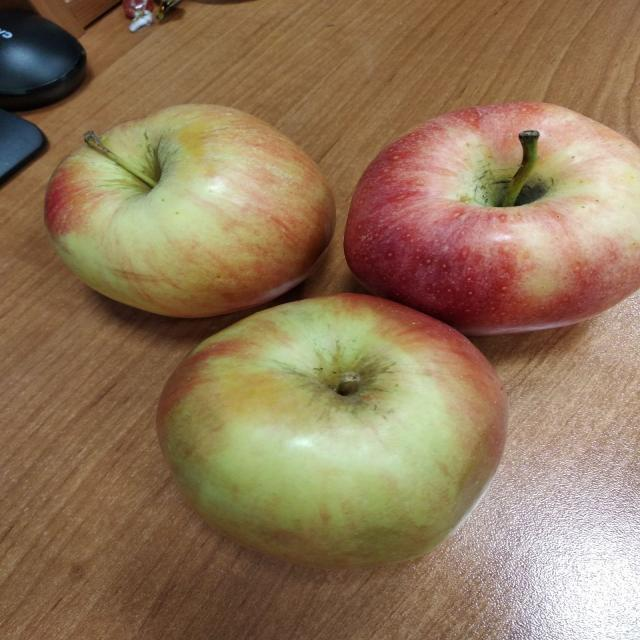Fresh Apple: (182, 318, 473, 545), (358, 95, 640, 325), (64, 106, 304, 306)
